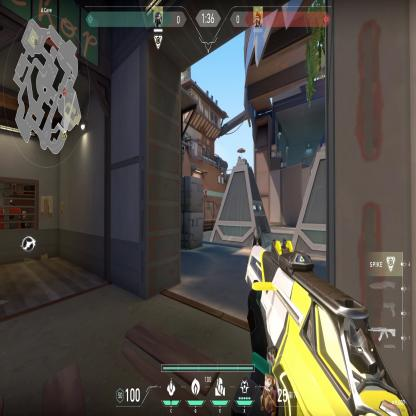enemy: (204, 185, 208, 198)
